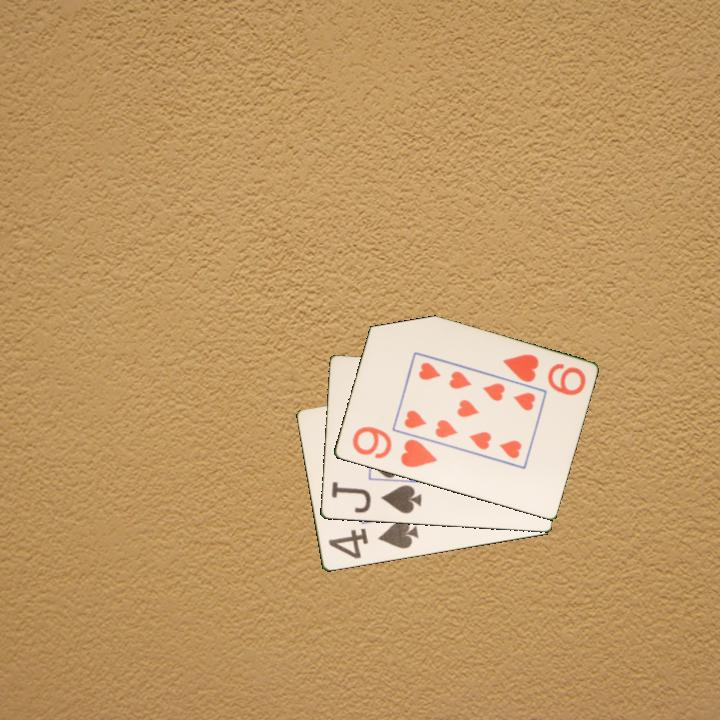4s: (325, 517, 421, 562)
9h: (348, 423, 440, 471), (499, 350, 588, 399)
Js: (327, 479, 424, 517)
